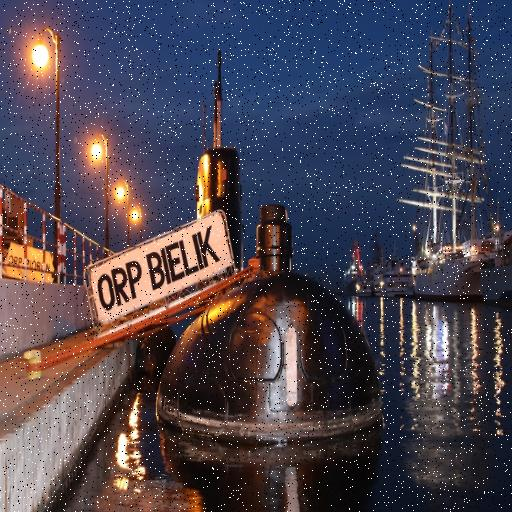submarine: (158, 41, 386, 453)
